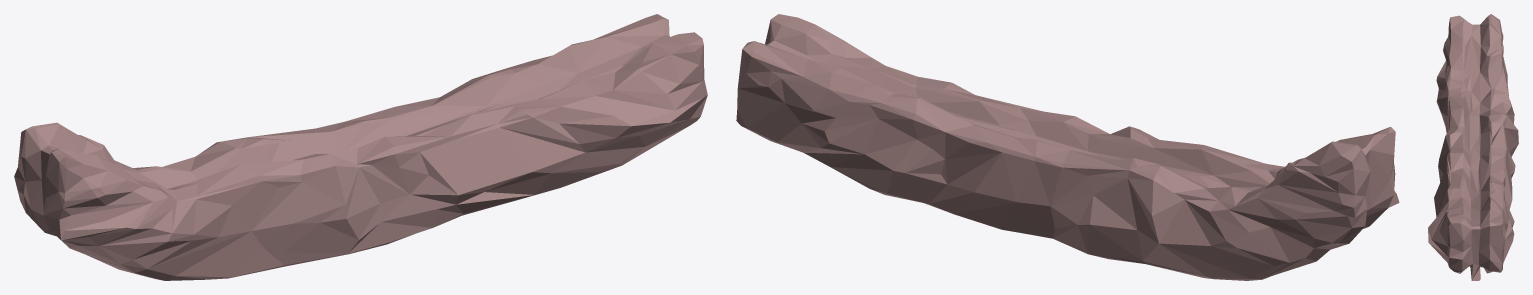
The model's file is rockEntranceT.fbx.
The picture shows the model from 3 angles, left to right: view 1: azimuth 30°, elevation 25°; view 2: azimuth 150°, elevation 25°; view 3: azimuth 270°, elevation 25°; orthographic projection. The views are drawn at different scales.
Visible parts, largest first — view 1: ruins_Entrance_T; view 2: ruins_Entrance_T; view 3: ruins_Entrance_T.
Part boxes in pixels (x1,y1,x2,y2): ruins_Entrance_T: (14, 14, 707, 280); ruins_Entrance_T: (736, 14, 1399, 280); ruins_Entrance_T: (1428, 14, 1518, 280).
Bounding box in the file's own units: 6.43 × 1.65 × 1.3.
